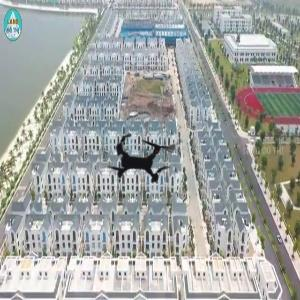drone: (90, 107, 194, 211)
